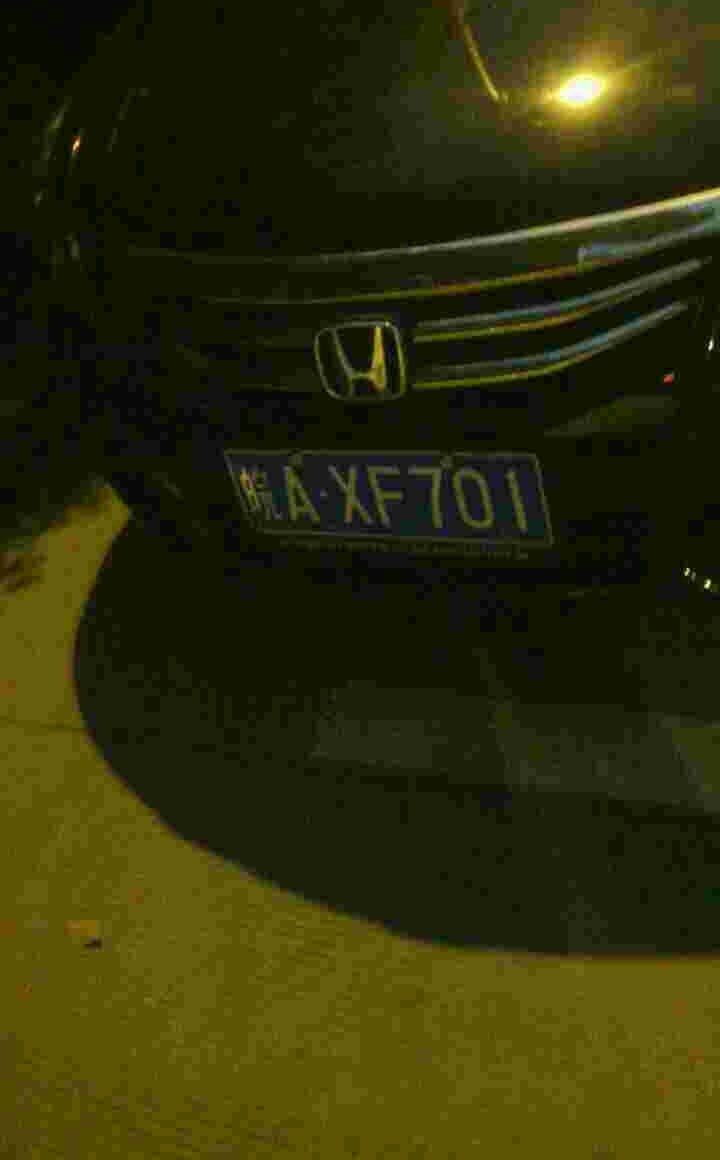license_plate: (209, 453, 561, 540)
